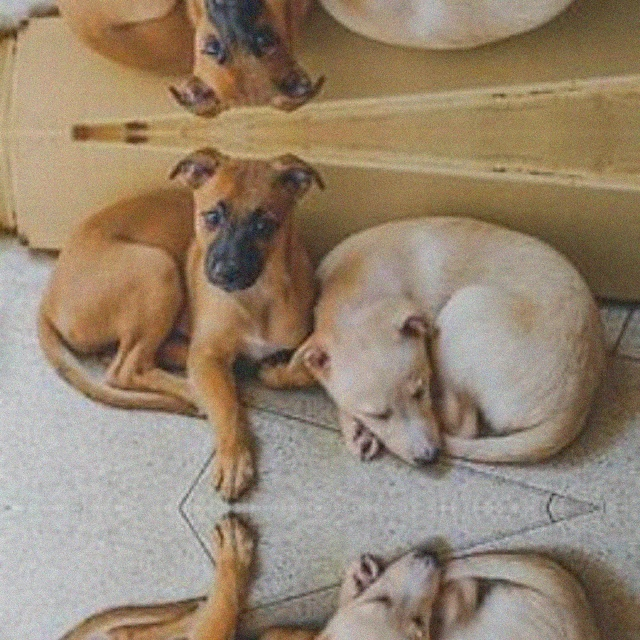dog: (320, 217, 600, 508), (72, 161, 328, 413), (319, 507, 600, 640), (72, 0, 328, 103), (319, 0, 600, 47), (72, 600, 328, 640)
